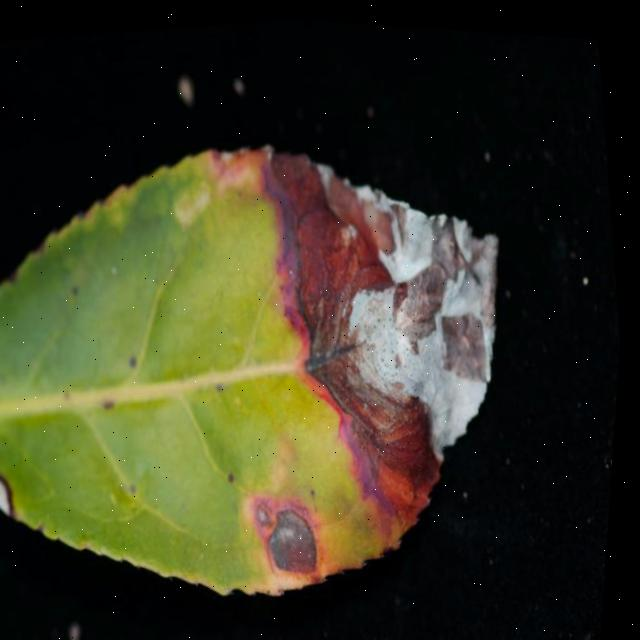Tea cloud leaf blight: (236, 99, 550, 527)
